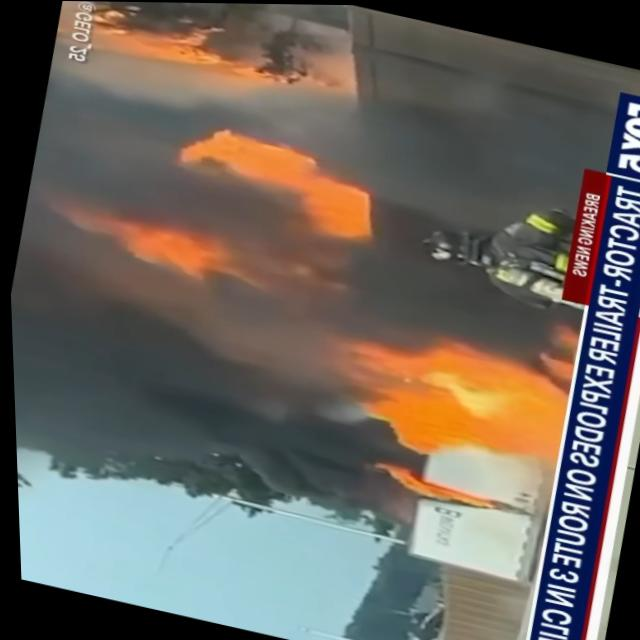Fire: (342, 313, 573, 492), (154, 106, 376, 255), (75, 4, 305, 130), (67, 210, 219, 286)
